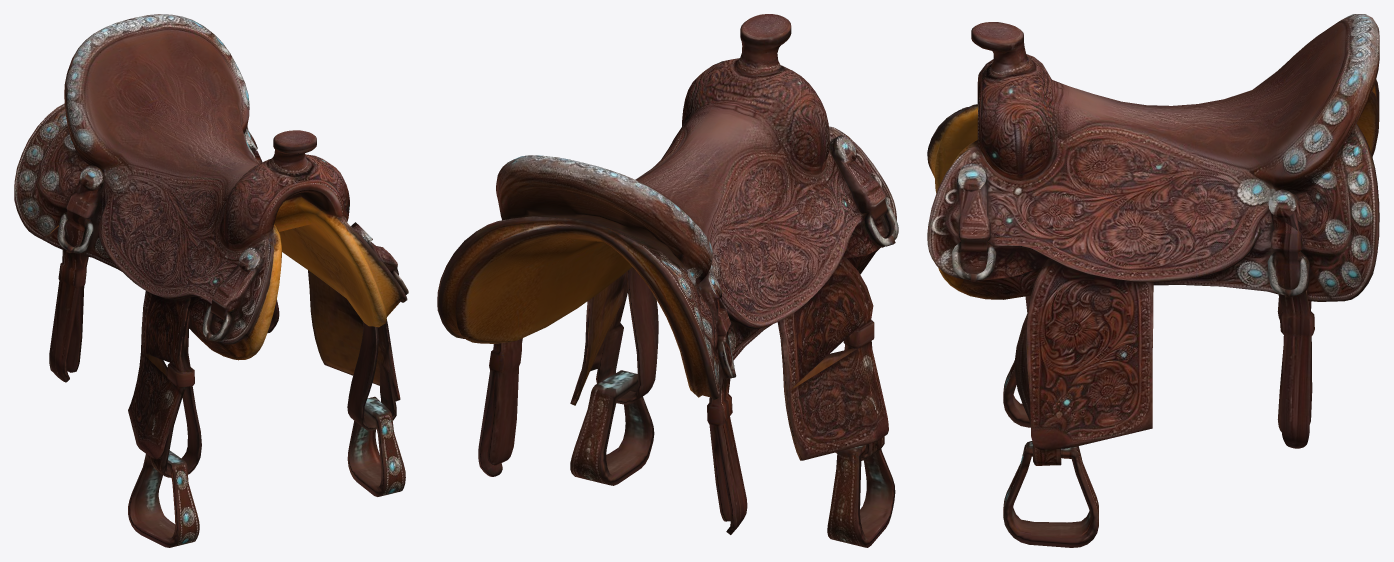
File: fancy.glb
3 views of the same model, side by side, from view 1: azimuth 30°, elevation 25°; view 2: azimuth 150°, elevation 25°; view 3: azimuth 270°, elevation 25° (orthographic). The views are drawn at different scales.
Parts seen in each view (by area): view 1: tripo_node_d2764287-8a7d-42e1-8fda-aa41922c418b; view 2: tripo_node_d2764287-8a7d-42e1-8fda-aa41922c418b; view 3: tripo_node_d2764287-8a7d-42e1-8fda-aa41922c418b.
Boxes of the visible parts, <box> form: tripo_node_d2764287-8a7d-42e1-8fda-aa41922c418b: <box>14,14,408,547</box>; tripo_node_d2764287-8a7d-42e1-8fda-aa41922c418b: <box>437,14,898,547</box>; tripo_node_d2764287-8a7d-42e1-8fda-aa41922c418b: <box>927,14,1379,547</box>.
Bounding box in the file's own units: 0.569 × 0.8496 × 0.774.
Materials: 1 (1 with a texture image).
